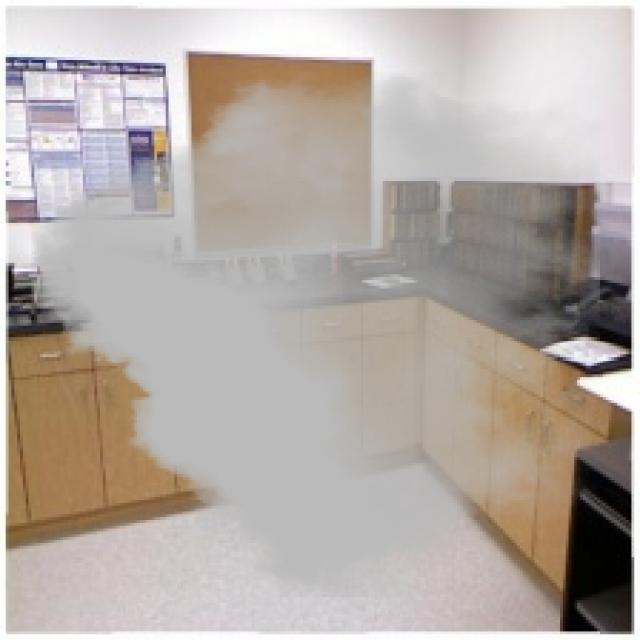smoke: (31, 72, 600, 597)
